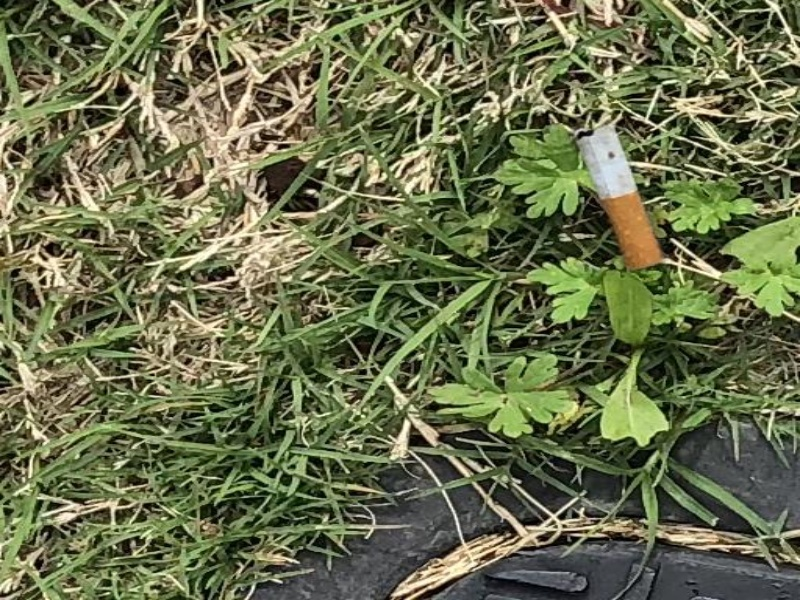cig: (570, 116, 669, 275)
